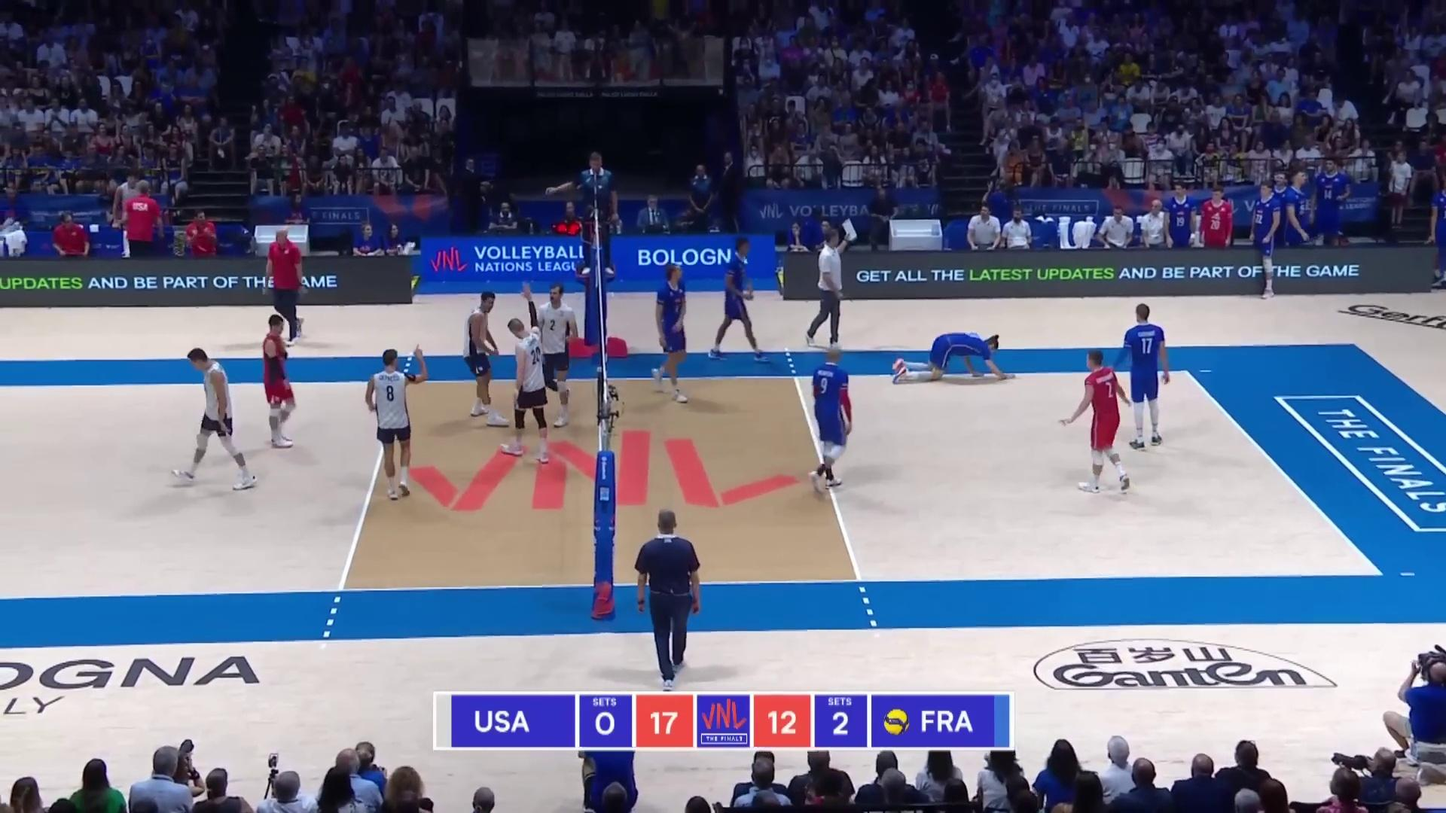player: (173, 349, 257, 487), (1060, 349, 1131, 492), (365, 349, 418, 497), (499, 318, 553, 461), (1119, 305, 1172, 443), (533, 285, 581, 426), (891, 332, 1013, 383), (810, 346, 851, 492), (712, 240, 763, 352), (649, 264, 691, 400), (462, 291, 503, 423), (264, 317, 299, 444)
refree: (632, 515, 703, 682), (572, 151, 616, 272)
